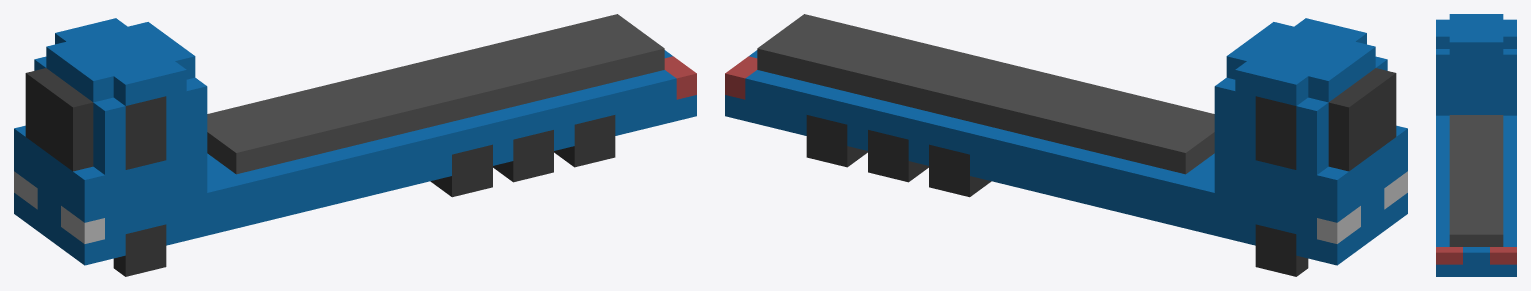
File: truck-v3-blue.gltf
3 renders of one model, left to right at view 1: azimuth 30°, elevation 25°; view 2: azimuth 150°, elevation 25°; view 3: azimuth 270°, elevation 25°, orthographic. The views are drawn at different scales.
Visible parts, largest first — view 1: model, wheels; view 2: model, wheels; view 3: model.
Part boxes in pixels (box(x1,y1,x2,y2)): model: box(14, 14, 696, 265); wheels: box(113, 115, 615, 276); model: box(725, 14, 1407, 265); wheels: box(806, 115, 1308, 276); model: box(1436, 14, 1516, 276).
Size of the model in its own units: 3 by 0.9 by 0.6.
2 materials, 2 textured.
